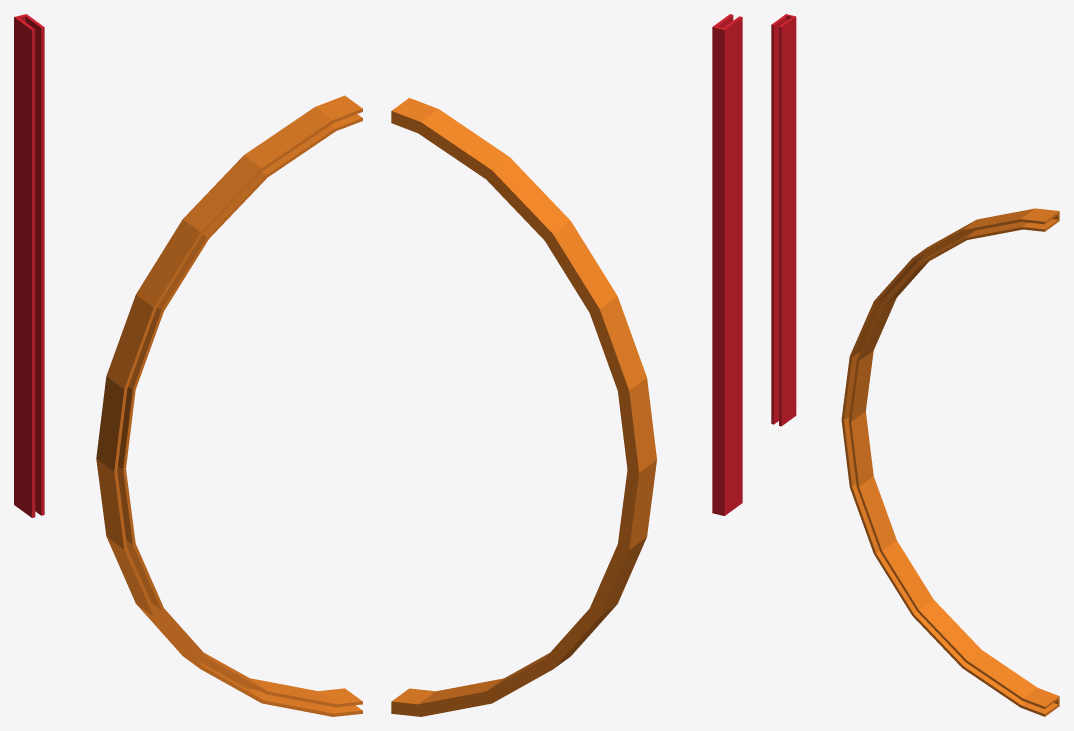
File: tinker.obj
3 views of the same model, side by side, from view 1: azimuth 30°, elevation 25°; view 2: azimuth 150°, elevation 25°; view 3: azimuth 330°, elevation 25° (orthographic). The views are drawn at different scales.
Visible parts, largest first — view 1: group_0_16089887, group_0_15277357; view 2: group_0_16089887, group_0_15277357; view 3: group_0_16089887, group_0_15277357.
Boxes of the visible parts, x1,y1,x2,y2 form: group_0_16089887: (96,95,362,716); group_0_15277357: (14,14,44,517); group_0_16089887: (391,98,656,716); group_0_15277357: (712,14,742,515); group_0_16089887: (841,208,1059,716); group_0_15277357: (771,14,796,426).
Bounding box in the file's own units: 107 × 236 × 11.
